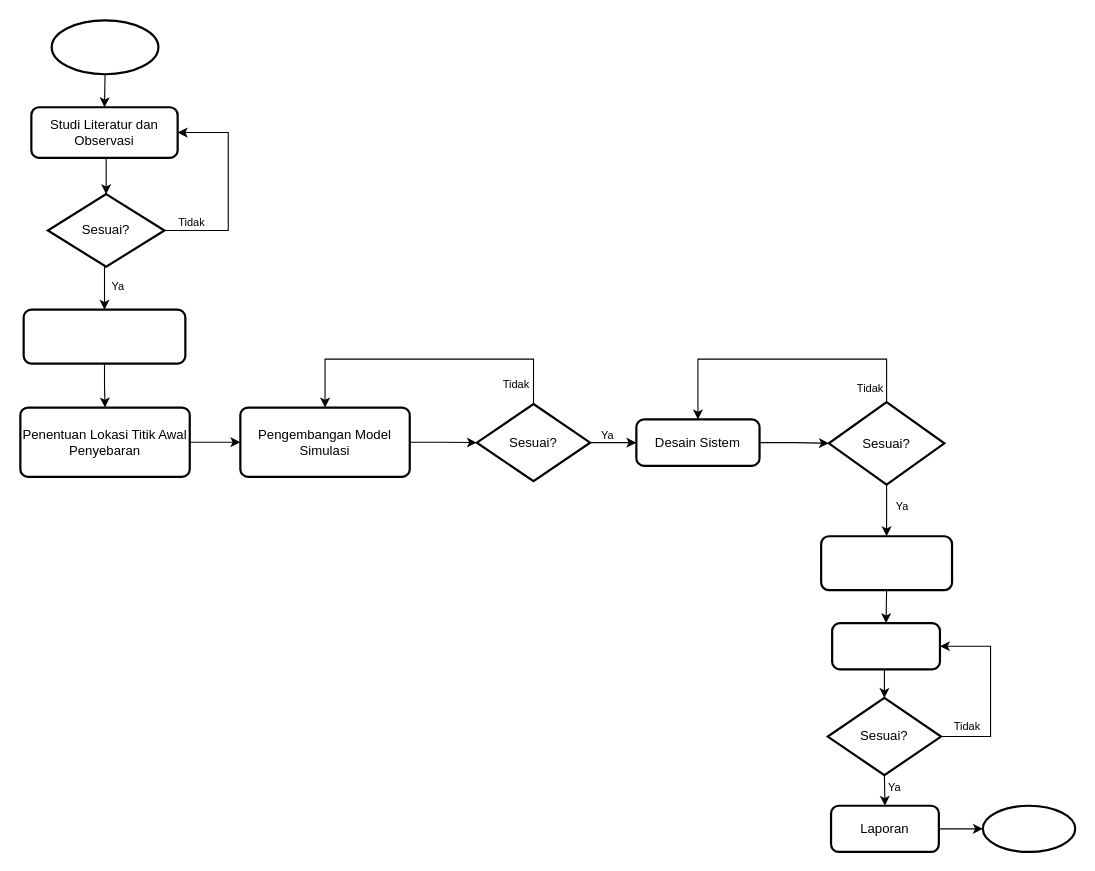
Image size: 1095x871. Some labels were removed from this diagram. Here are the shapes that lost their labels. From the top down, the centre of each, then its label:
At (x=104, y=47): "Mulai".
At (x=104, y=336): "Pengumpulan Data".
At (x=886, y=563): "Membuat Aplikasi".
At (x=886, y=646): "Testing".
At (x=1028, y=828): "Selesai".
